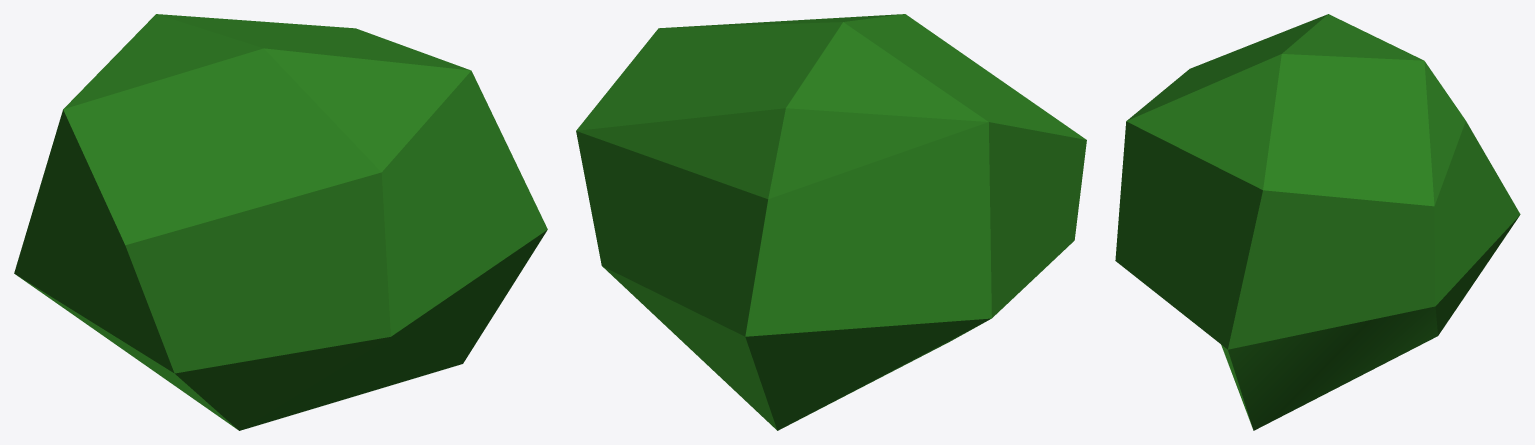
Rendered from SM_Bush_T1.fbx.
The picture shows the model from 3 angles, left to right: view 1: azimuth 30°, elevation 25°; view 2: azimuth 150°, elevation 25°; view 3: azimuth 270°, elevation 25°; orthographic projection. The views are drawn at different scales.
Parts seen in each view (by area): view 1: SM_Bush_T1; view 2: SM_Bush_T1; view 3: SM_Bush_T1.
Part boxes in pixels (x1,y1,x2,y2): SM_Bush_T1: (14, 14, 547, 430); SM_Bush_T1: (576, 14, 1086, 430); SM_Bush_T1: (1115, 14, 1520, 430).
Size of the model in its own units: 25.64 by 18.86 by 23.07.
